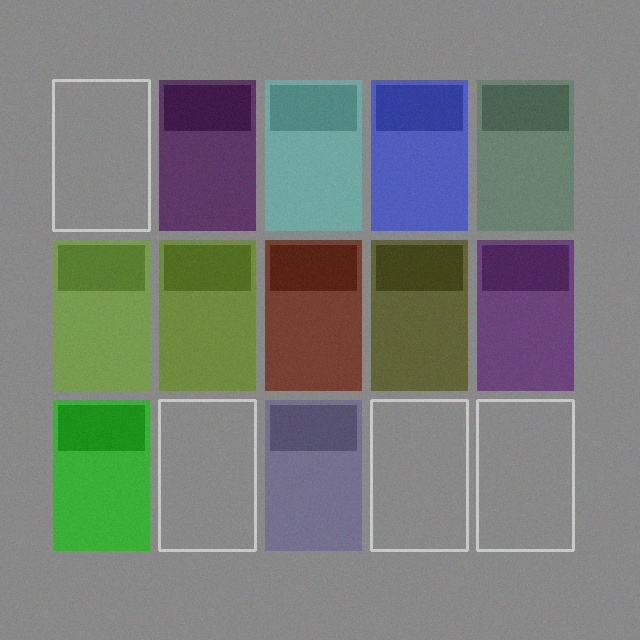space-empty: (53, 80, 149, 230), (159, 400, 255, 550), (371, 400, 467, 550), (477, 400, 573, 550)
space-occupied: (159, 80, 255, 230), (265, 80, 361, 230), (371, 80, 467, 230), (477, 80, 573, 230), (53, 240, 149, 390), (159, 240, 255, 390), (265, 240, 361, 390), (371, 240, 467, 390), (477, 240, 573, 390), (53, 400, 149, 550), (265, 400, 361, 550)
